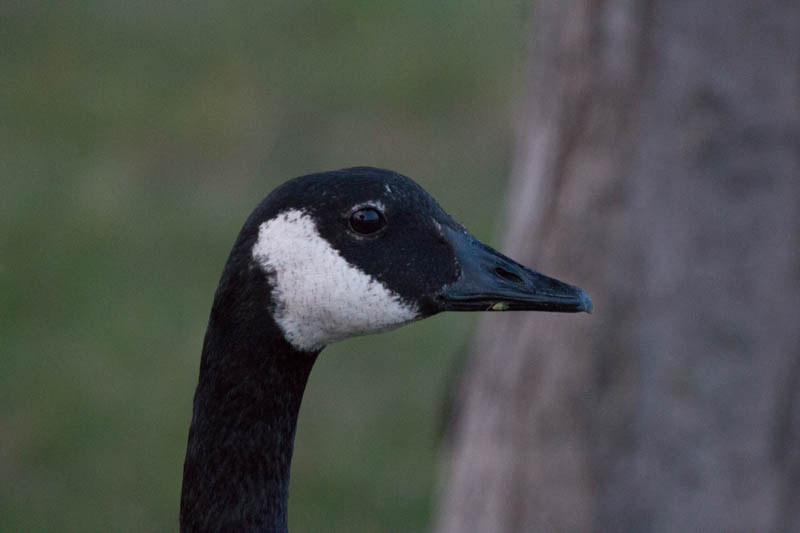goose-head: (217, 167, 594, 353)
